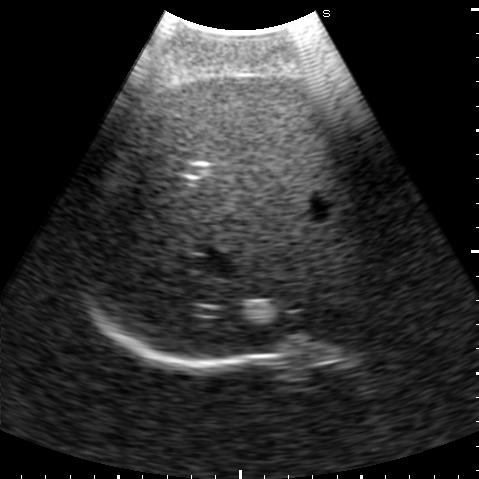S5: (124, 76, 332, 178)
S7: (67, 148, 182, 292)
S8: (118, 166, 360, 358)
Tumor: (241, 299, 276, 323)
